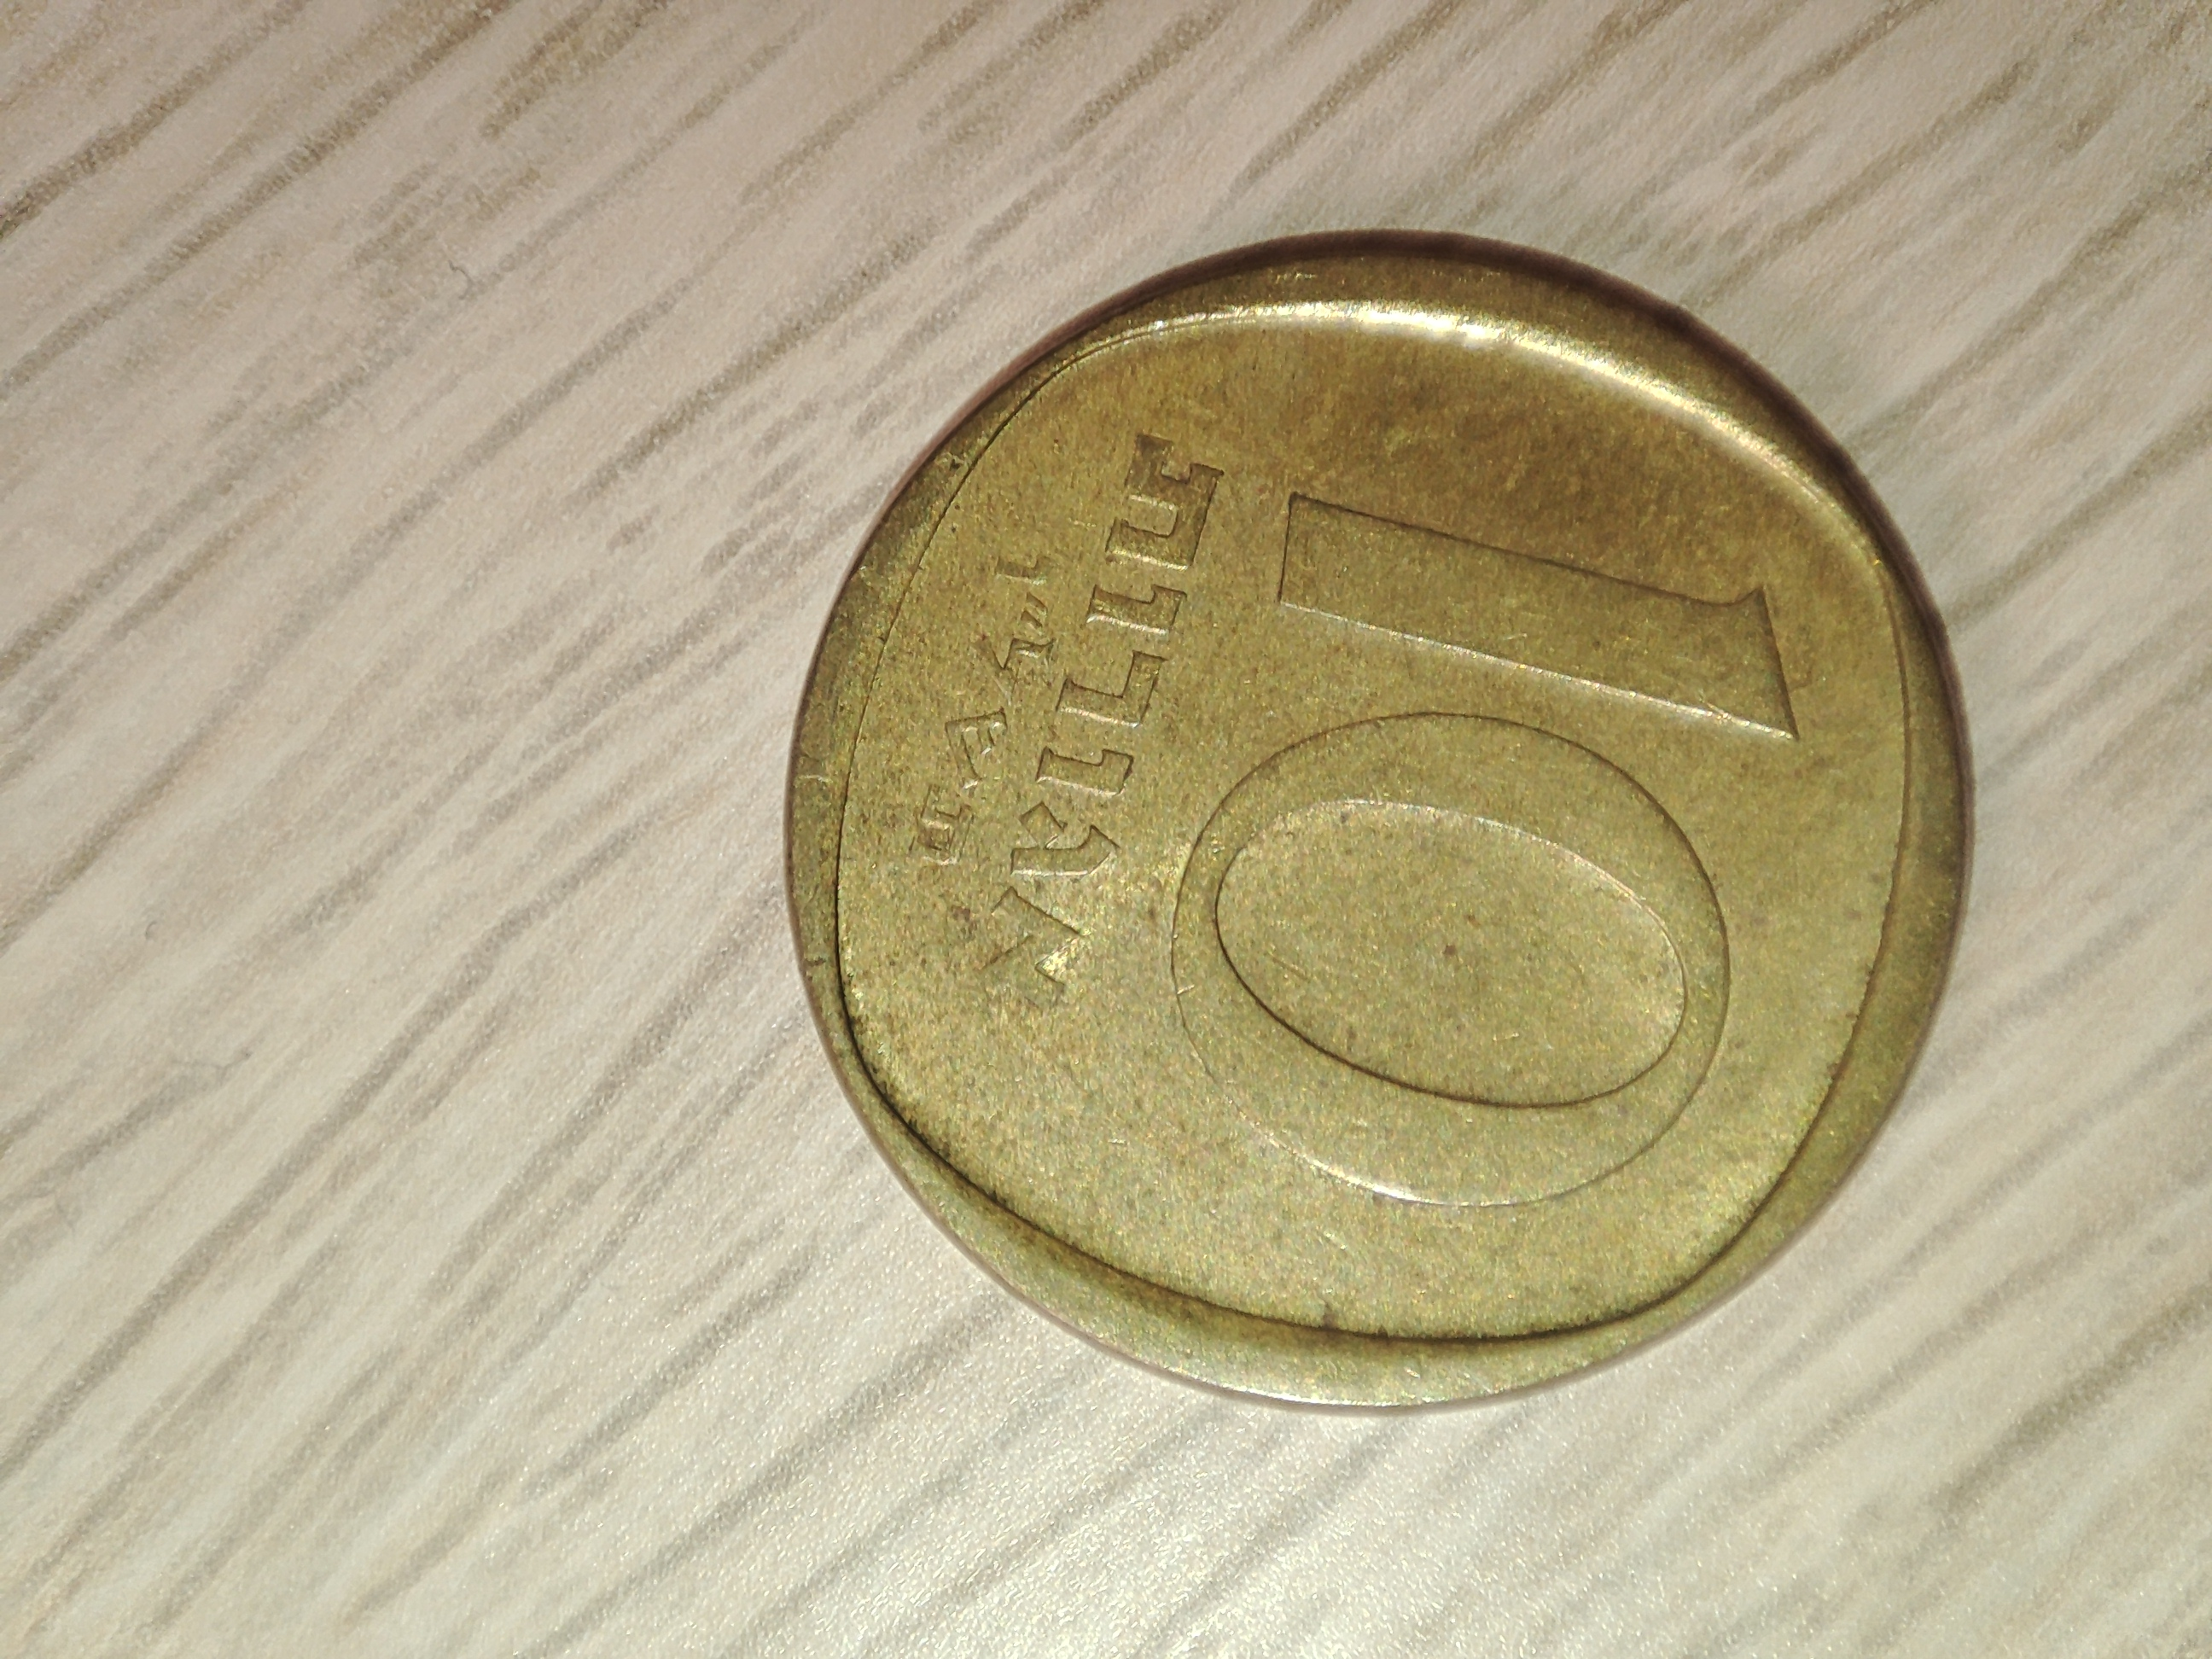10 old agora brown: (777, 232, 1977, 1417)
